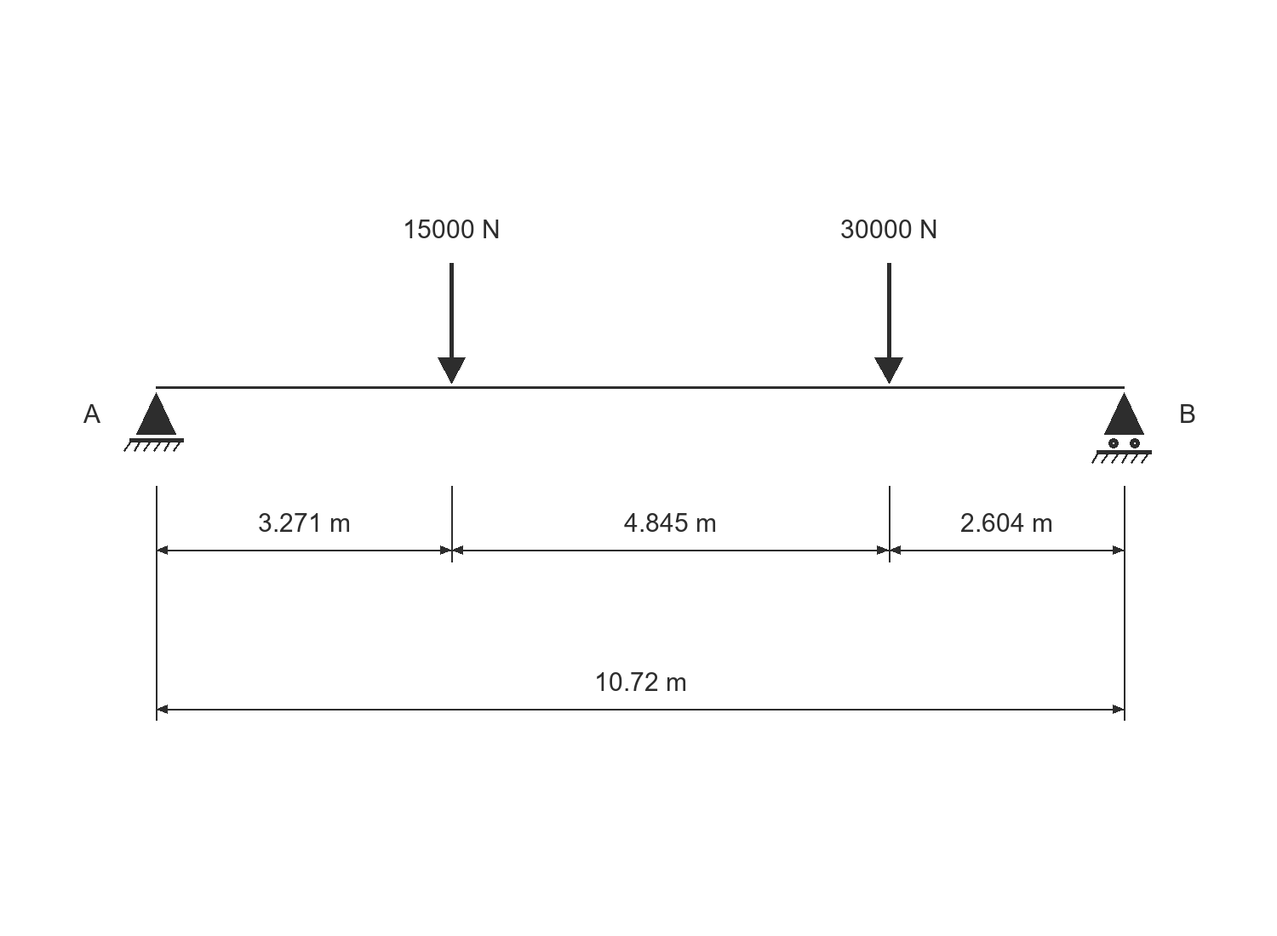pin_support: (123, 392, 184, 452)
point_load: (874, 263, 903, 384), (438, 263, 466, 384)
roller_support: (1091, 392, 1152, 464)
